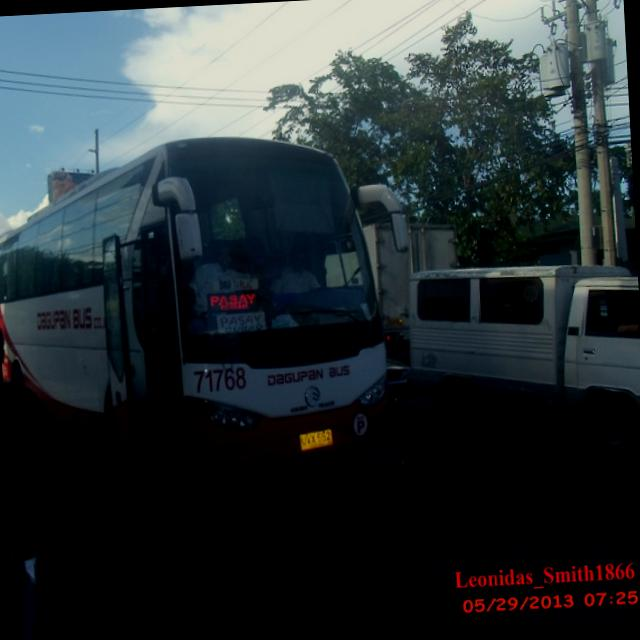Vehicle: (0, 125, 424, 483), (407, 258, 640, 468), (385, 354, 412, 402)
